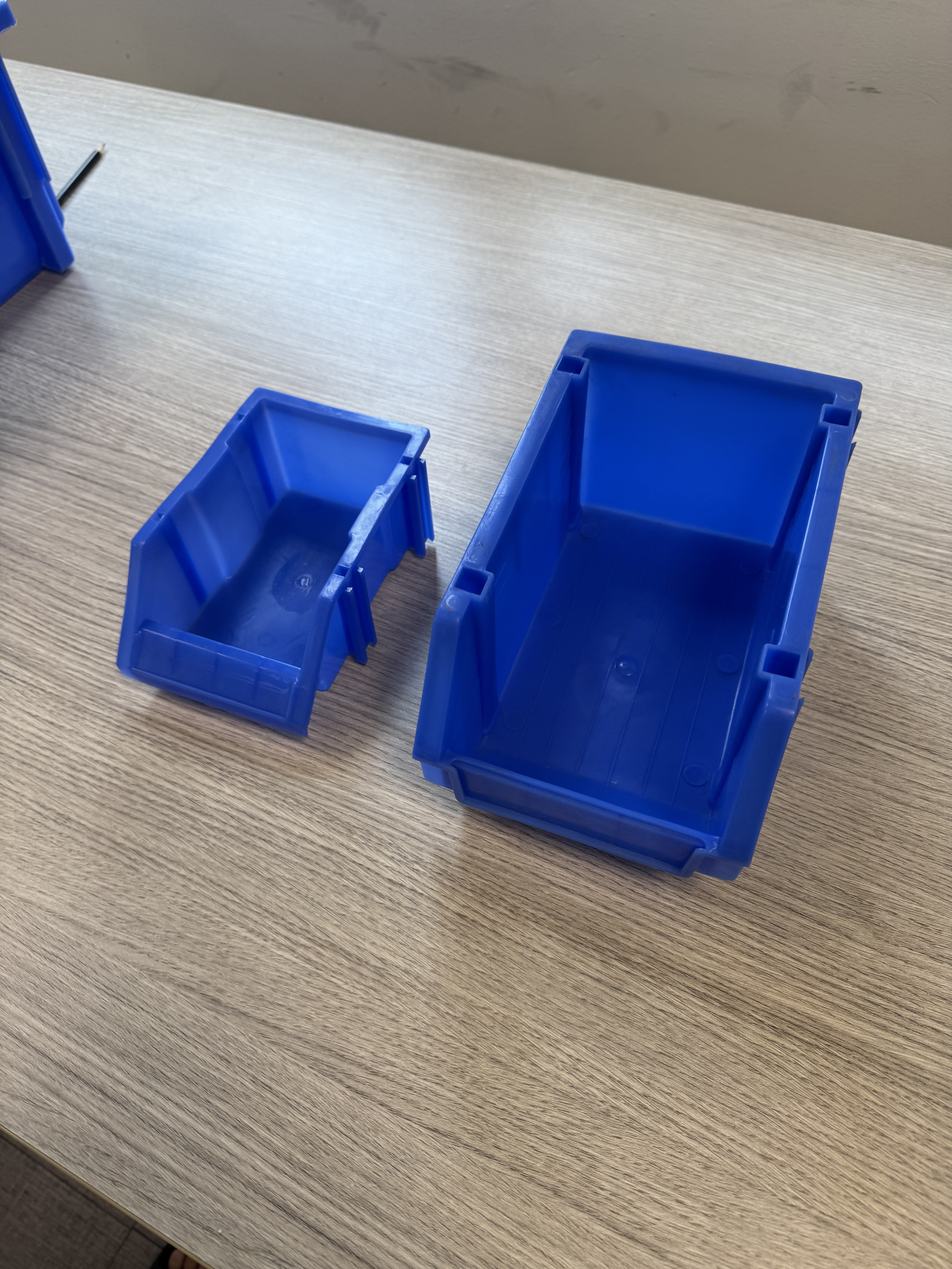Bin Boundary: (424, 303, 859, 843), (127, 370, 412, 680)
